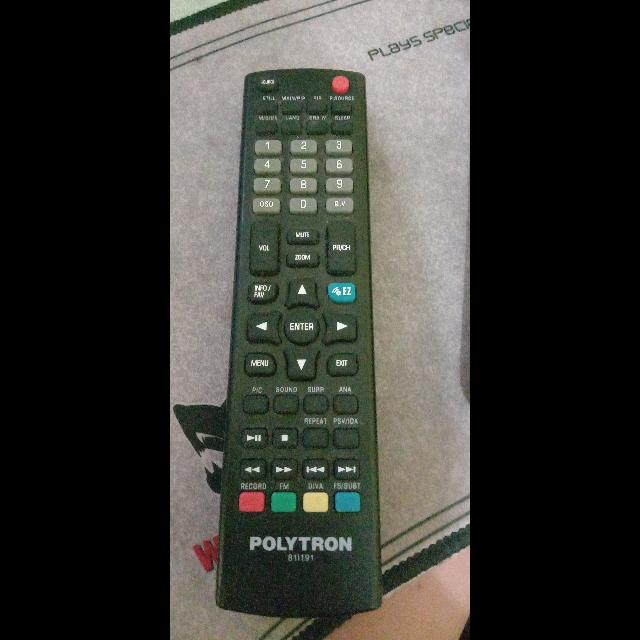TV-Remote-Control: (208, 65, 376, 629)
